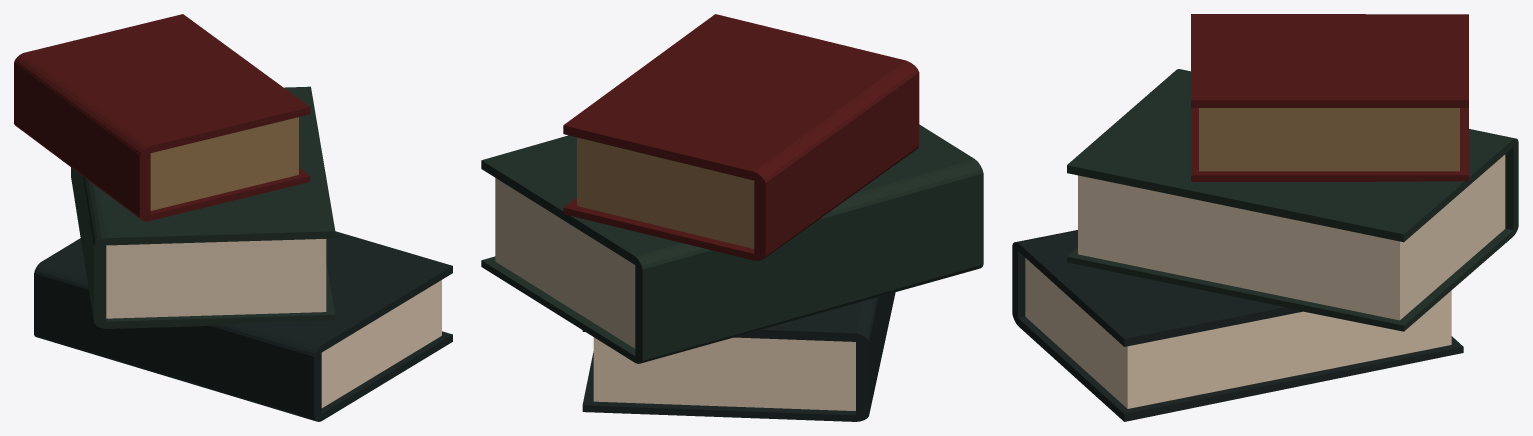
File: Buchstapel3.fbx
The picture shows the model from 3 angles, left to right: view 1: azimuth 30°, elevation 25°; view 2: azimuth 150°, elevation 25°; view 3: azimuth 270°, elevation 25°; orthographic projection. The views are drawn at different scales.
Visible parts, largest first — view 1: Buch1.012; view 2: Buch1.012; view 3: Buch1.012.
Boxes of the visible parts, x1,y1,x2,y2 form: Buch1.012: (14, 14, 452, 421); Buch1.012: (481, 14, 983, 421); Buch1.012: (1012, 14, 1518, 421).
Bounding box in the file's own units: 91.27 × 62.89 × 110.
